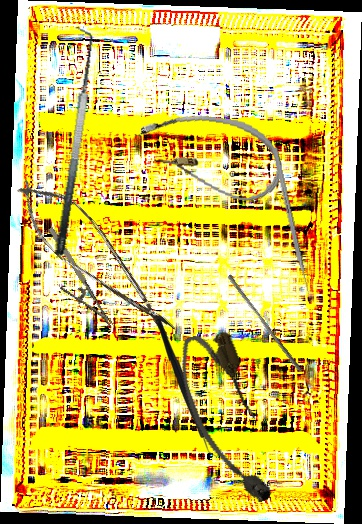Cannula: (168, 325, 284, 514), (133, 107, 287, 205)
Chopper: (154, 317, 222, 461)
Micro Scissor: (0, 164, 194, 353)
Needle Holder: (31, 224, 115, 341)
Pusher: (223, 274, 307, 373), (271, 147, 313, 301)
Spatula Surgical: (35, 26, 105, 257)
